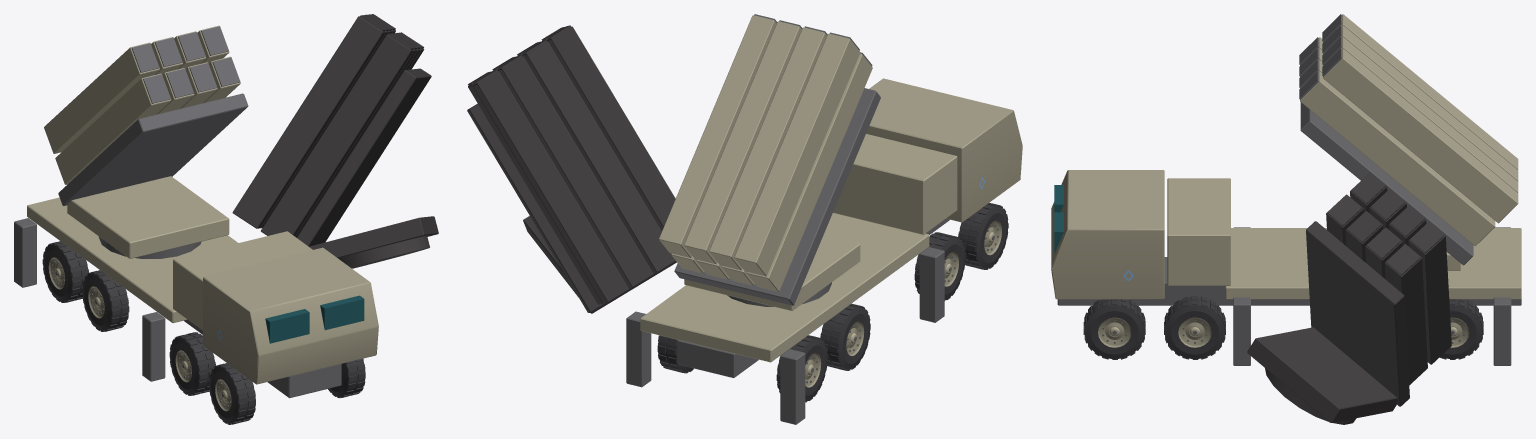
File: samLauncher__sky_sabre_camm.glb
The picture shows the model from 3 angles, left to right: view 1: azimuth 30°, elevation 25°; view 2: azimuth 150°, elevation 25°; view 3: azimuth 270°, elevation 25°; orthographic projection. The views are drawn at different scales.
Visible parts, largest first — view 1: Hull_Mesh, Wreck, Gun_Mesh, Turret_Mesh, Wheel_L3_Mesh, Wheel_L1_Mesh, Wheel_L2_Mesh, Wheel_L0_Mesh, Wheel_R3_Mesh; view 2: Hull_Mesh, Gun_Mesh, Wreck, Turret_Mesh, Wheel_L1_Mesh, Wheel_L3_Mesh, Wheel_L2_Mesh, Wheel_L0_Mesh, Wheel_R0_Mesh; view 3: Hull_Mesh, Wreck, Gun_Mesh, Wheel_R2_Mesh, Wheel_R3_Mesh, Wheel_R0_Mesh.
Boxes of the visible parts, <box> form: Hull_Mesh: <box>14,197,378,398</box>; Wreck: <box>59,14,438,423</box>; Gun_Mesh: <box>44,25,248,205</box>; Turret_Mesh: <box>67,176,229,258</box>; Wheel_L3_Mesh: <box>209,363,255,424</box>; Wheel_L1_Mesh: <box>82,270,129,331</box>; Wheel_L2_Mesh: <box>169,332,215,395</box>; Wheel_L0_Mesh: <box>42,241,88,302</box>; Wheel_R3_Mesh: <box>328,358,365,398</box>; Hull_Mesh: <box>626,78,1022,424</box>; Gun_Mesh: <box>659,14,880,305</box>; Wreck: <box>467,25,810,402</box>; Turret_Mesh: <box>684,235,860,310</box>; Wheel_L1_Mesh: <box>820,303,870,370</box>; Wheel_L3_Mesh: <box>958,202,1008,269</box>; Wheel_L2_Mesh: <box>914,232,965,300</box>; Wheel_L0_Mesh: <box>776,335,827,402</box>; Wheel_R0_Mesh: <box>657,335,693,373</box>; Hull_Mesh: <box>1051,170,1521,365</box>; Wreck: <box>1194,172,1475,424</box>; Gun_Mesh: <box>1299,14,1518,265</box>; Wheel_R2_Mesh: <box>1164,296,1225,359</box>; Wheel_R3_Mesh: <box>1083,299,1145,359</box>; Wheel_R0_Mesh: <box>1440,299,1483,359</box>.
Size of what is drawn, in the model's own units: 7.62 by 5.84 by 8.5.
